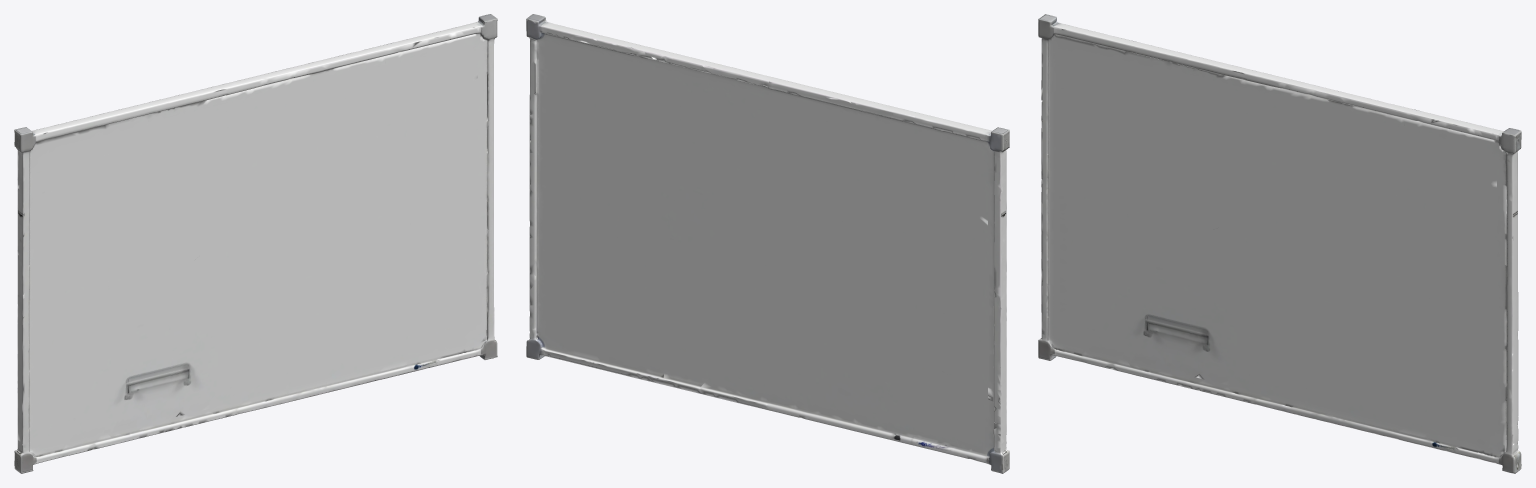
File: lousa.obj
3 views of the same model, side by side, from view 1: azimuth 30°, elevation 25°; view 2: azimuth 150°, elevation 25°; view 3: azimuth 330°, elevation 25° (orthographic).
Visible parts, largest first — view 1: Mesh_0; view 2: Mesh_0; view 3: Mesh_0.
Boxes of the visible parts, bbox=[...] form: Mesh_0: bbox=[14, 14, 497, 473]; Mesh_0: bbox=[526, 14, 1009, 473]; Mesh_0: bbox=[1038, 14, 1521, 473].
Size of the model in its own units: 5.85 by 3.97 by 0.1528.
